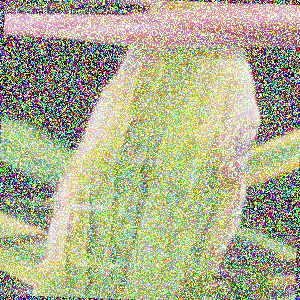Leaf_Blast: (72, 48, 257, 300)
